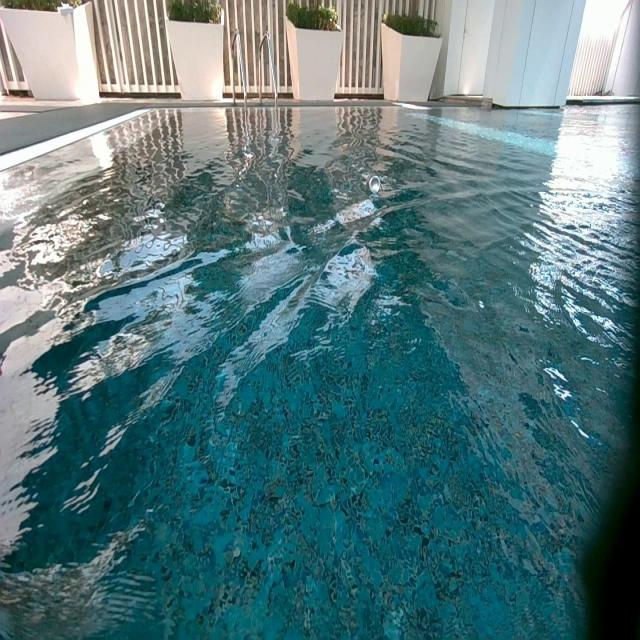Cans: (367, 175, 381, 193)
